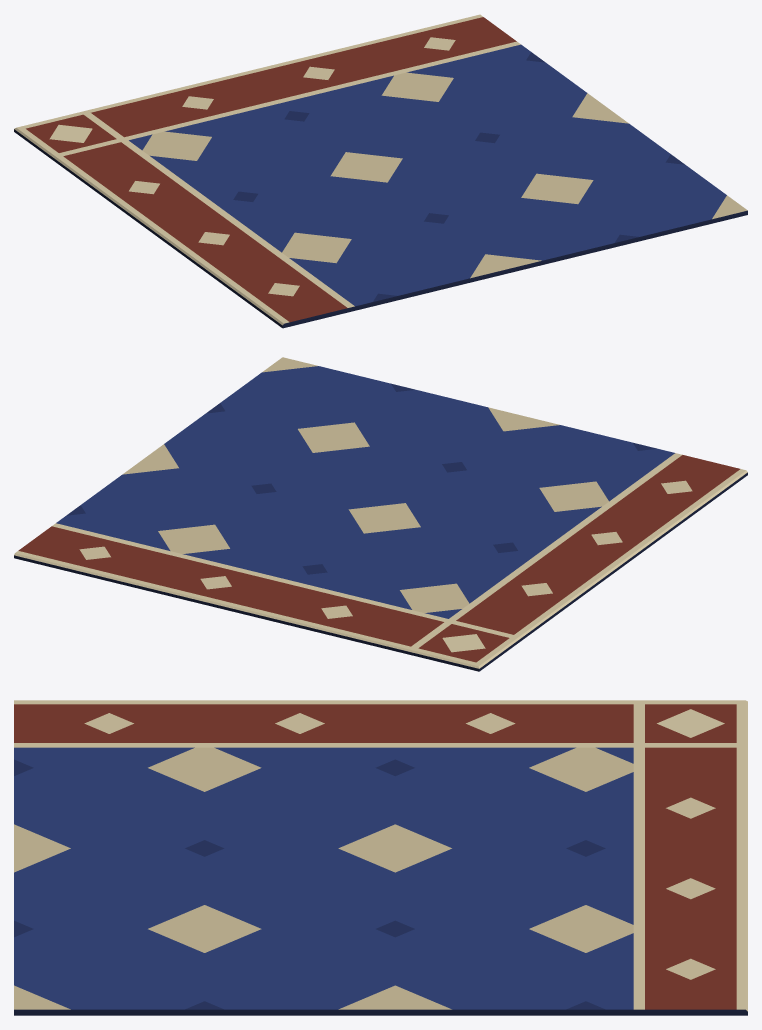
File: carpet_blue_corner_A.glb
The picture shows the model from 3 angles, top to bottom: view 1: azimuth 30°, elevation 25°; view 2: azimuth 150°, elevation 25°; view 3: azimuth 270°, elevation 25°; orthographic projection. The views are drawn at different scales.
Parts seen in each view (by area): view 1: Item; view 2: Item; view 3: Item.
Part boxes in pixels (<box>): Item: <box>14,14,747,328</box>; Item: <box>14,357,747,671</box>; Item: <box>14,700,747,1015</box>.
Size of the model in its own units: 3.85 by 0.035 by 3.85.
Materials: 1 (1 with a texture image).
